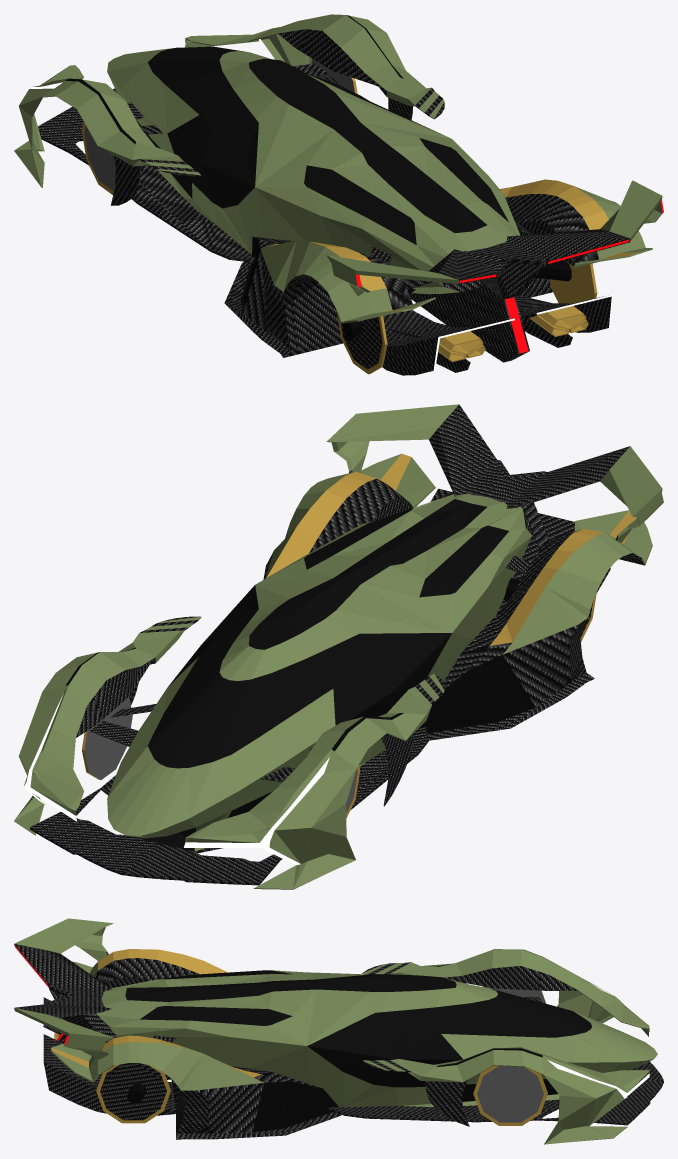
Rendered from vision_gt_body.glb.
The picture shows the model from 3 angles, top to bottom: view 1: azimuth 30°, elevation 25°; view 2: azimuth 150°, elevation 25°; view 3: azimuth 270°, elevation 25°; orthographic projection. The views are drawn at different scales.
Visible parts, largest first — view 1: Cube; view 2: Cube; view 3: Cube.
Part boxes in pixels (box(x1,y1,x2,y2)): Cube: box(14, 14, 663, 375); Cube: box(14, 404, 663, 889); Cube: box(14, 918, 663, 1144).
Size of the model in its own units: 1.76 by 0.7734 by 4.12.
Materials: 8 (1 with a texture image).
